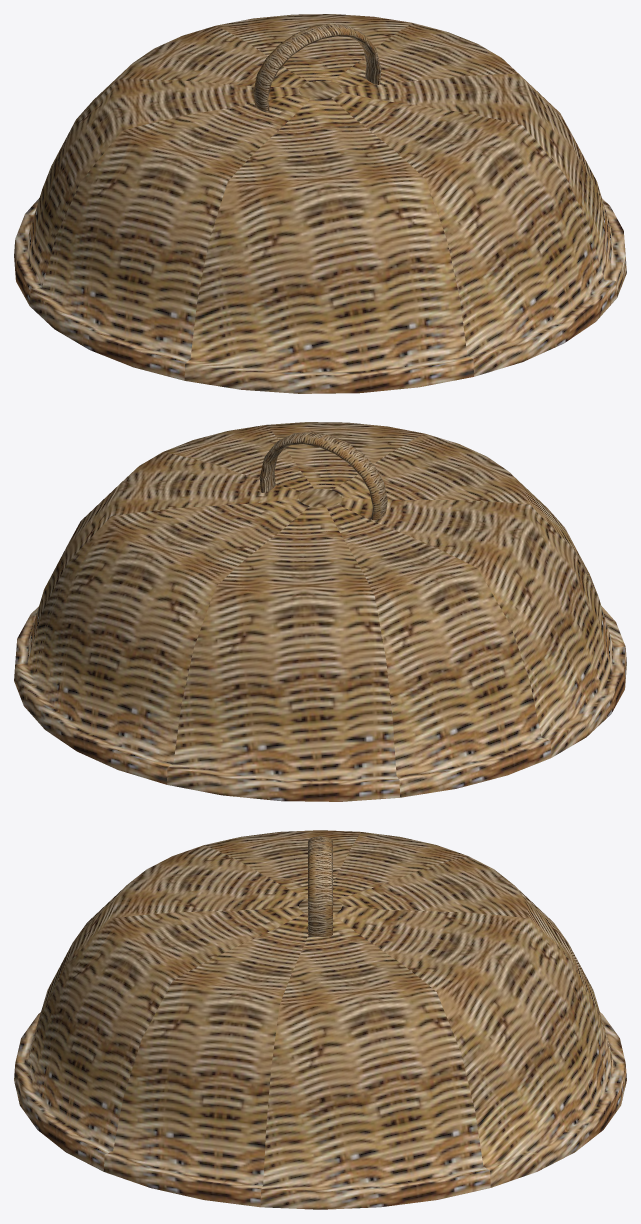
The model's file is dish_food_cover.glb.
3 renders of one model, top to bottom at view 1: azimuth 30°, elevation 25°; view 2: azimuth 150°, elevation 25°; view 3: azimuth 270°, elevation 25°, orthographic.
Visible parts, largest first — view 1: BezierCurve; view 2: BezierCurve; view 3: BezierCurve.
Boxes of the visible parts, left/top/right/bottom form: BezierCurve: left=14, top=14, right=626, bottom=393; BezierCurve: left=14, top=422, right=626, bottom=801; BezierCurve: left=14, top=830, right=626, bottom=1209.
Size of the model in its own units: 200 by 84.86 by 200.
Materials: 1 (1 with a texture image).
